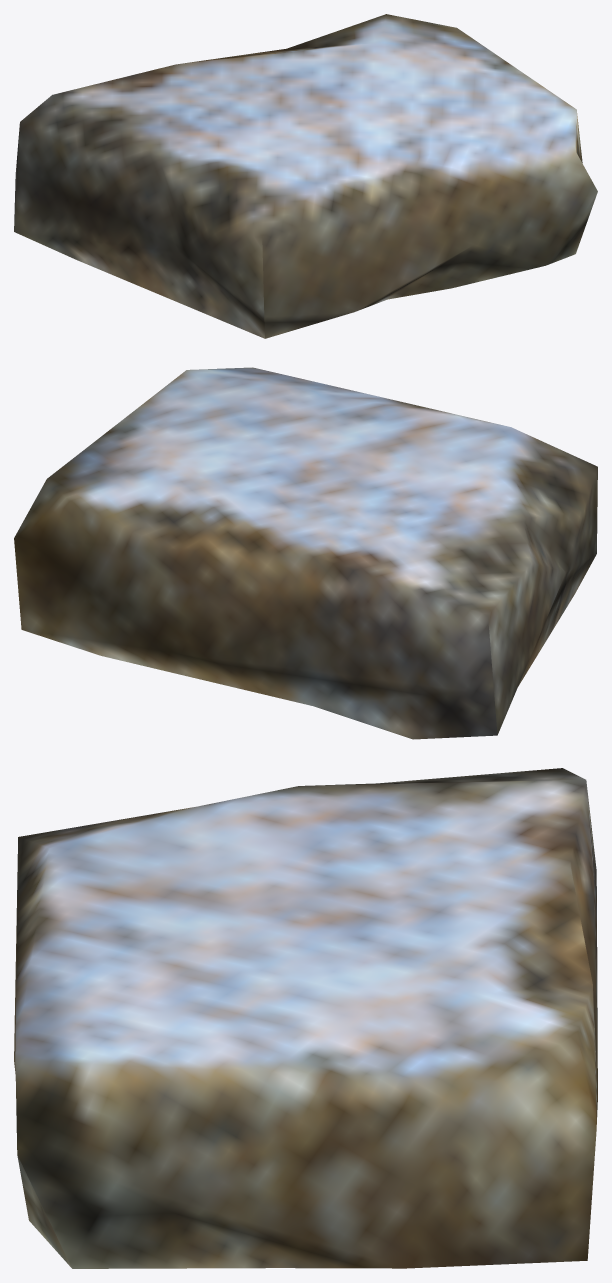
Rendered from SM_EN_2007_shitou14.FBX.
3 renders of one model, top to bottom at view 1: azimuth 30°, elevation 25°; view 2: azimuth 150°, elevation 25°; view 3: azimuth 270°, elevation 25°, orthographic. The views are drawn at different scales.
Parts seen in each view (by area): view 1: SM_EN_2007_shitou14; view 2: SM_EN_2007_shitou14; view 3: SM_EN_2007_shitou14.
Part boxes in pixels (box(x1,y1,x2,y2)): SM_EN_2007_shitou14: box(14, 14, 597, 338); SM_EN_2007_shitou14: box(14, 367, 597, 739); SM_EN_2007_shitou14: box(14, 768, 597, 1268).
Bounding box in the file's own units: 81.57 × 26.27 × 60.09.
